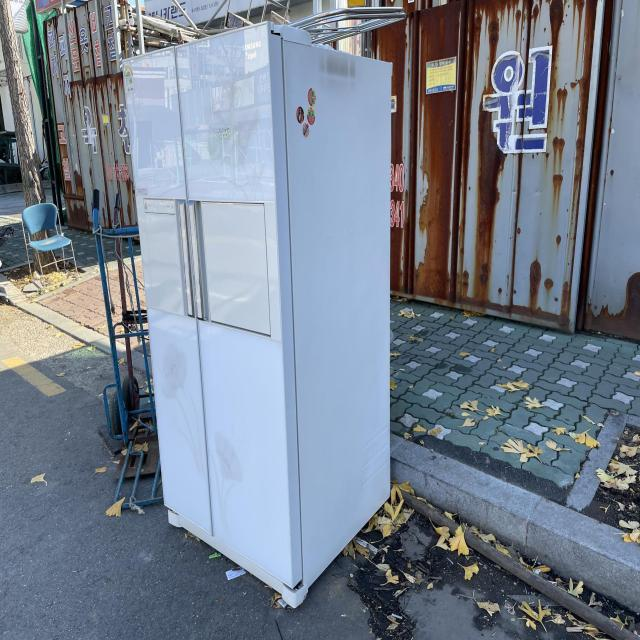refrigerator: (120, 20, 396, 612)
